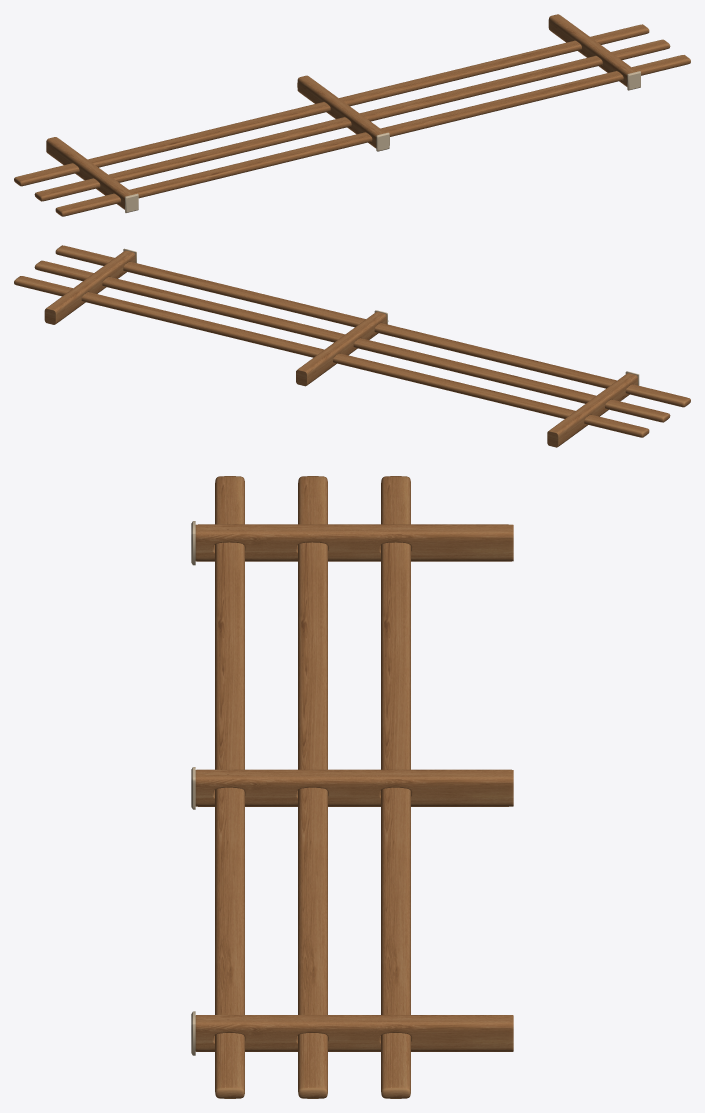
Rendered from rail.glb.
The picture shows the model from 3 angles, top to bottom: view 1: azimuth 30°, elevation 25°; view 2: azimuth 150°, elevation 25°; view 3: azimuth 270°, elevation 25°; orthographic projection. The views are drawn at different scales.
Parts seen in each view (by area): view 1: 13078_Wooden_Post_and_Rail_Fence_v1_l3.001; view 2: 13078_Wooden_Post_and_Rail_Fence_v1_l3.001; view 3: 13078_Wooden_Post_and_Rail_Fence_v1_l3.001.
Part boxes in pixels (box(x1,y1,x2,y2)): 13078_Wooden_Post_and_Rail_Fence_v1_l3.001: box(14, 14, 690, 216); 13078_Wooden_Post_and_Rail_Fence_v1_l3.001: box(14, 245, 690, 447); 13078_Wooden_Post_and_Rail_Fence_v1_l3.001: box(191, 476, 513, 1098).
Bounding box in the file's own units: 271 × 6.61 × 60.08.
2 materials, 1 textured.
